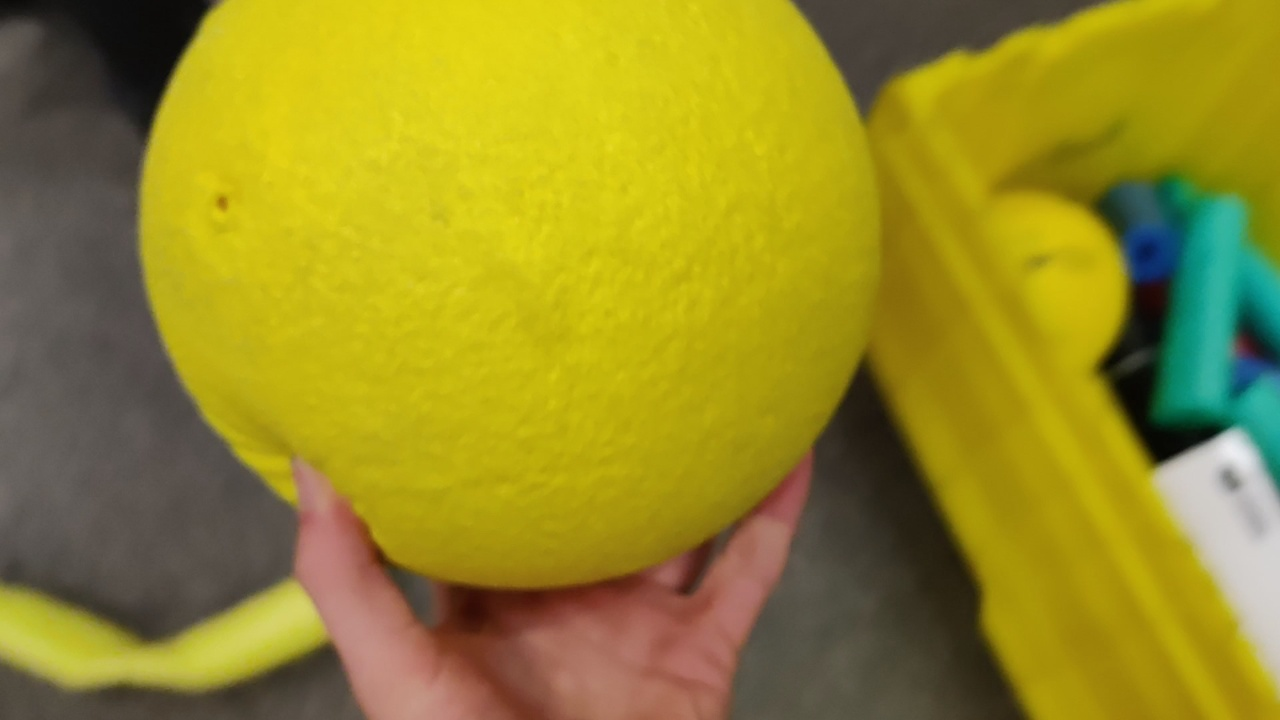Ball: (139, 2, 894, 585)
